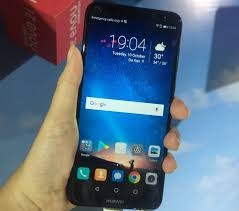huawei: (63, 3, 184, 207)
